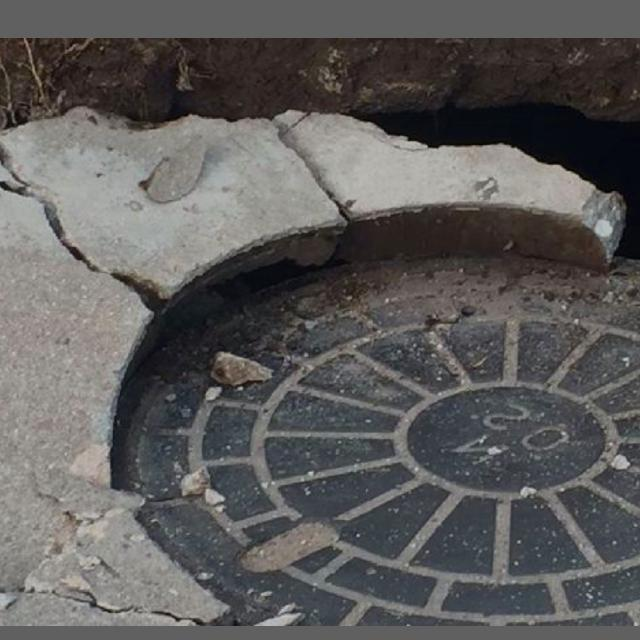circle: (0, 60, 640, 619)
